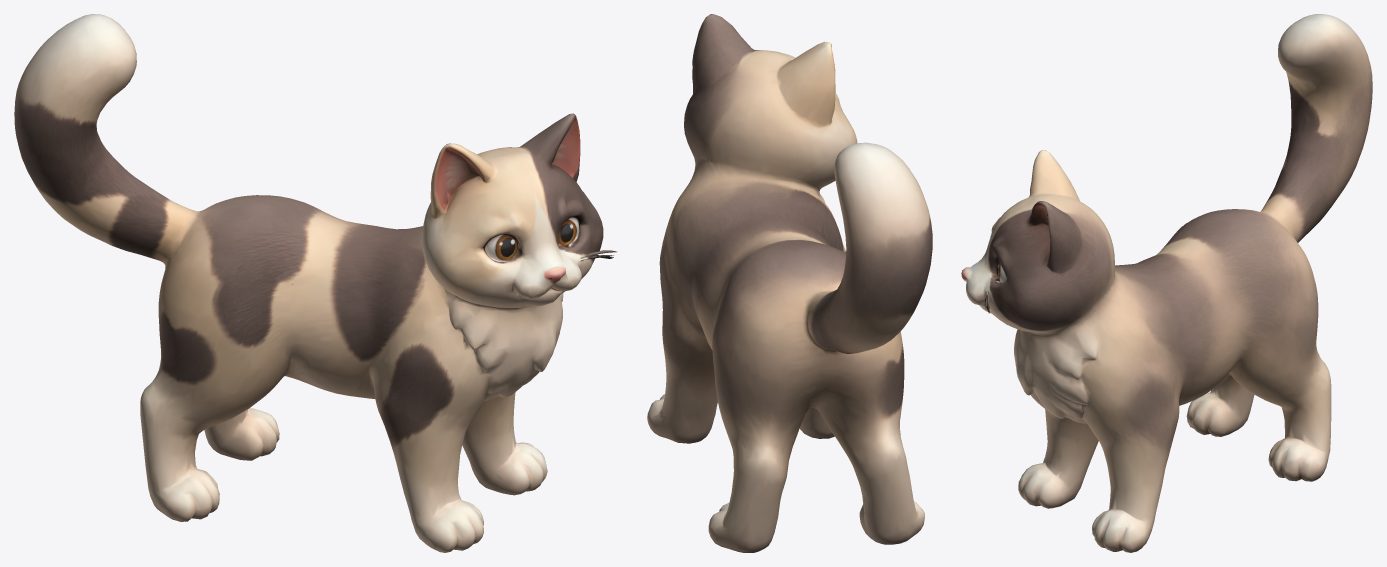
File: mabel.fbx
3 views of the same model, side by side, from view 1: azimuth 30°, elevation 25°; view 2: azimuth 150°, elevation 25°; view 3: azimuth 270°, elevation 25° (orthographic). The views are drawn at different scales.
Parts seen in each view (by area): view 1: tripo_node_3584b3fa; view 2: tripo_node_3584b3fa; view 3: tripo_node_3584b3fa.
Part boxes in pixels (bbox=[...]): tripo_node_3584b3fa: bbox=[14, 14, 617, 552]; tripo_node_3584b3fa: bbox=[647, 14, 932, 552]; tripo_node_3584b3fa: bbox=[961, 14, 1372, 552].
Size of the model in its own units: 0.9149 by 0.9804 by 0.9138.
1 material, 1 textured.
